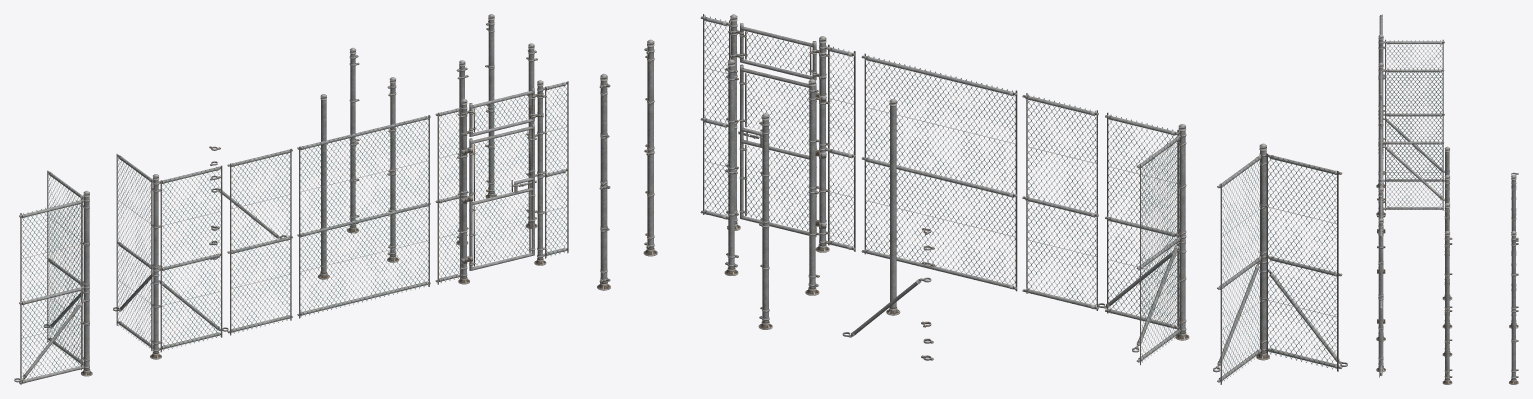
Rendered from modular_chainlink_fence_1k.glb.
3 renders of one model, left to right at view 1: azimuth 30°, elevation 25°; view 2: azimuth 150°, elevation 25°; view 3: azimuth 270°, elevation 25°, orthographic. The views are drawn at different scales.
Visible parts, largest first — view 1: modular_chainlink_fence_double, modular_chainlink_fence_corner_outer, modular_chainlink_fence_corner_inner, modular_chainlink_fence_door_frame, modular_chainlink_fence, modular_chainlink_fence_door_gate, modular_chainlink_fence_start_01_corner_02, modular_chainlink_fence_end_02, modular_chainlink_fence_end_01, modular_chainlink_fence_post, modular_chainlink_fence_start_01_corner_01, modular_chainlink_post_middle; view 2: modular_chainlink_fence_double, modular_chainlink_fence_corner_inner, modular_chainlink_fence_corner_outer, modular_chainlink_fence_door_frame, modular_chainlink_fence, modular_chainlink_fence_door_gate, modular_chainlink_fence_start_01_corner_02, modular_chainlink_post_middle, modular_chainlink_fence_end_01, modular_chainlink_fence_start_01_corner_01, modular_chainlink_fence_end_02, modular_chainlink_fence_post; view 3: modular_chainlink_fence_corner_outer, modular_chainlink_fence_corner_inner, modular_chainlink_fence_door_frame, modular_chainlink_fence_start_01_corner_01, modular_chainlink_fence_start_01_corner_02, modular_chainlink_fence_end_02, modular_chainlink_fence_double, modular_chainlink_fence_end_01, modular_chainlink_post_middle, modular_chainlink_fence_post.
Boxes of the visible parts, <box> form: modular_chainlink_fence_double: <box>297,115,430,318</box>; modular_chainlink_fence_corner_outer: <box>113,154,228,359</box>; modular_chainlink_fence_corner_inner: <box>14,170,92,384</box>; modular_chainlink_fence_door_frame: <box>435,80,568,284</box>; modular_chainlink_fence: <box>227,148,292,335</box>; modular_chainlink_fence_door_gate: <box>469,123,535,270</box>; modular_chainlink_fence_start_01_corner_02: <box>485,14,496,198</box>; modular_chainlink_fence_end_02: <box>347,47,359,233</box>; modular_chainlink_fence_end_01: <box>387,77,398,262</box>; modular_chainlink_fence_post: <box>317,94,329,279</box>; modular_chainlink_fence_start_01_corner_01: <box>525,43,537,228</box>; modular_chainlink_post_middle: <box>456,60,468,245</box>; modular_chainlink_fence_double: <box>861,53,1017,291</box>; modular_chainlink_fence_corner_inner: <box>1213,143,1347,384</box>; modular_chainlink_fence_corner_outer: <box>1097,112,1189,365</box>; modular_chainlink_fence_door_frame: <box>700,14,855,252</box>; modular_chainlink_fence: <box>1022,93,1098,310</box>; modular_chainlink_fence_door_gate: <box>739,64,816,236</box>; modular_chainlink_fence_start_01_corner_02: <box>597,74,610,290</box>; modular_chainlink_post_middle: <box>724,59,738,275</box>; modular_chainlink_fence_end_01: <box>805,79,819,295</box>; modular_chainlink_fence_start_01_corner_01: <box>643,39,657,256</box>; modular_chainlink_fence_end_02: <box>758,113,772,329</box>; modular_chainlink_fence_post: <box>886,98,900,315</box>; modular_chainlink_fence_corner_outer: <box>1376,62,1449,233</box>; modular_chainlink_fence_corner_inner: <box>1376,14,1449,188</box>; modular_chainlink_fence_door_frame: <box>1376,182,1385,377</box>; modular_chainlink_fence_start_01_corner_01: <box>1442,231,1452,384</box>; modular_chainlink_fence_start_01_corner_02: <box>1509,231,1518,384</box>; modular_chainlink_fence_end_02: <box>1509,175,1518,328</box>; modular_chainlink_fence_double: <box>1379,126,1382,183</box>; modular_chainlink_fence_end_01: <box>1442,175,1452,328</box>; modular_chainlink_post_middle: <box>1442,203,1452,356</box>; modular_chainlink_fence_post: <box>1442,146,1452,300</box>.
Bounding box in the file's own units: 8.12 × 2.52 × 2.15.
2 materials, 2 textured.
